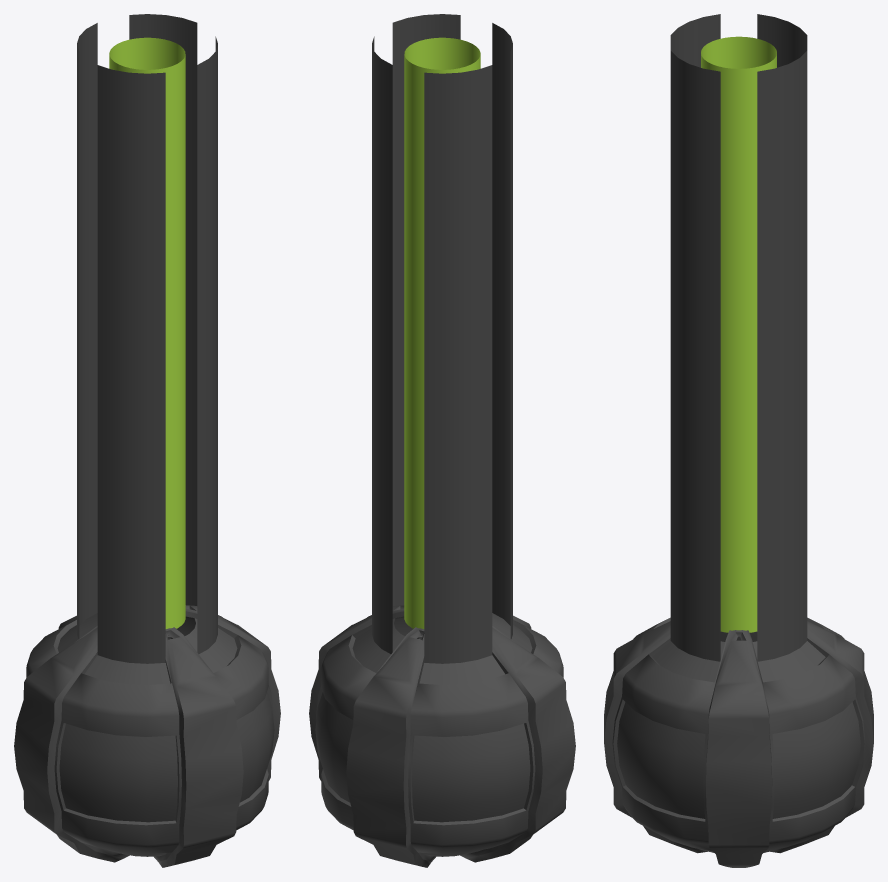
File: mod_Mechanic_Arm.fbx
3 views of the same model, side by side, from view 1: azimuth 30°, elevation 25°; view 2: azimuth 150°, elevation 25°; view 3: azimuth 270°, elevation 25° (orthographic).
Visible parts, largest first — view 1: Arm_Joint, Arm_BaseUnion, Arm_Energy; view 2: Arm_Joint, Arm_BaseUnion, Arm_Energy; view 3: Arm_Joint, Arm_BaseUnion, Arm_Energy.
Boxes of the visible parts, bbox=[...] form: Arm_Joint: bbox=[77, 14, 217, 663]; Arm_BaseUnion: bbox=[14, 605, 280, 867]; Arm_Energy: bbox=[109, 37, 185, 628]; Arm_Joint: bbox=[372, 14, 512, 663]; Arm_BaseUnion: bbox=[309, 605, 575, 867]; Arm_Energy: bbox=[404, 37, 480, 628]; Arm_Joint: bbox=[670, 14, 807, 661]; Arm_BaseUnion: bbox=[604, 617, 873, 867]; Arm_Energy: bbox=[701, 36, 776, 632].
Size of the model in its own units: 212 by 701 by 212.
